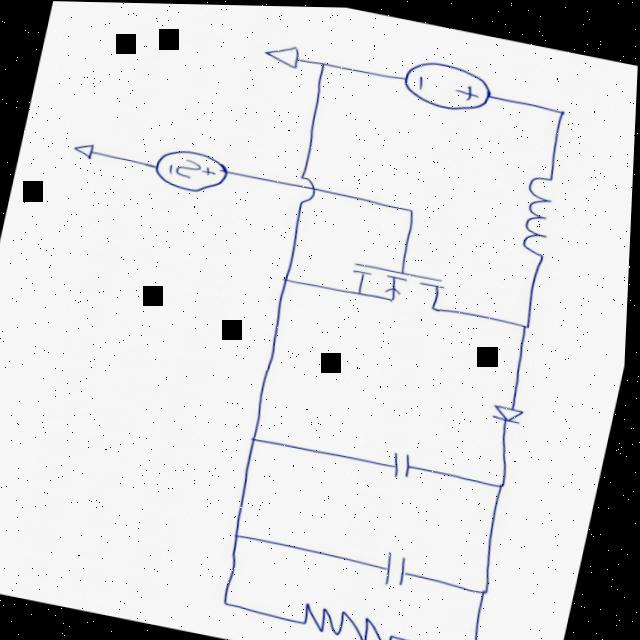capacitor: (360, 536, 432, 600), (371, 431, 435, 489)
diode: (466, 379, 539, 444)
ground: (247, 27, 315, 82), (61, 131, 113, 168)
inductor: (491, 157, 584, 272)
mosfet: (335, 244, 463, 329)
resistor: (288, 591, 425, 640)
source: (388, 49, 503, 125), (134, 137, 241, 203)
